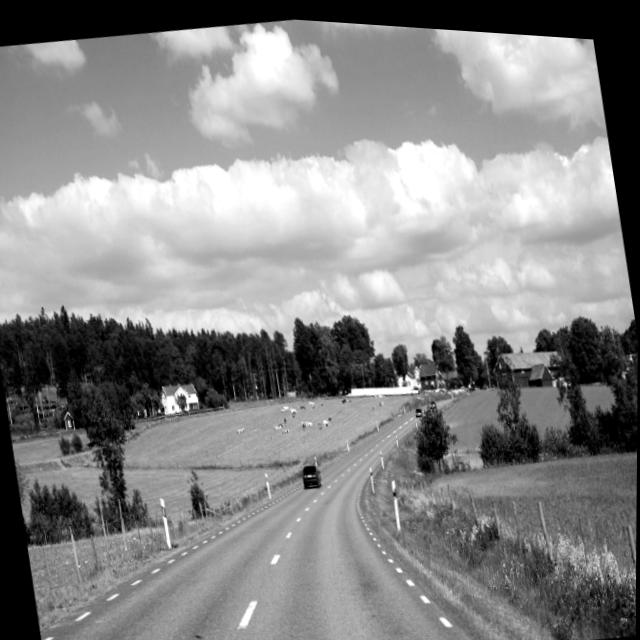cleat: (10, 378, 497, 640)
